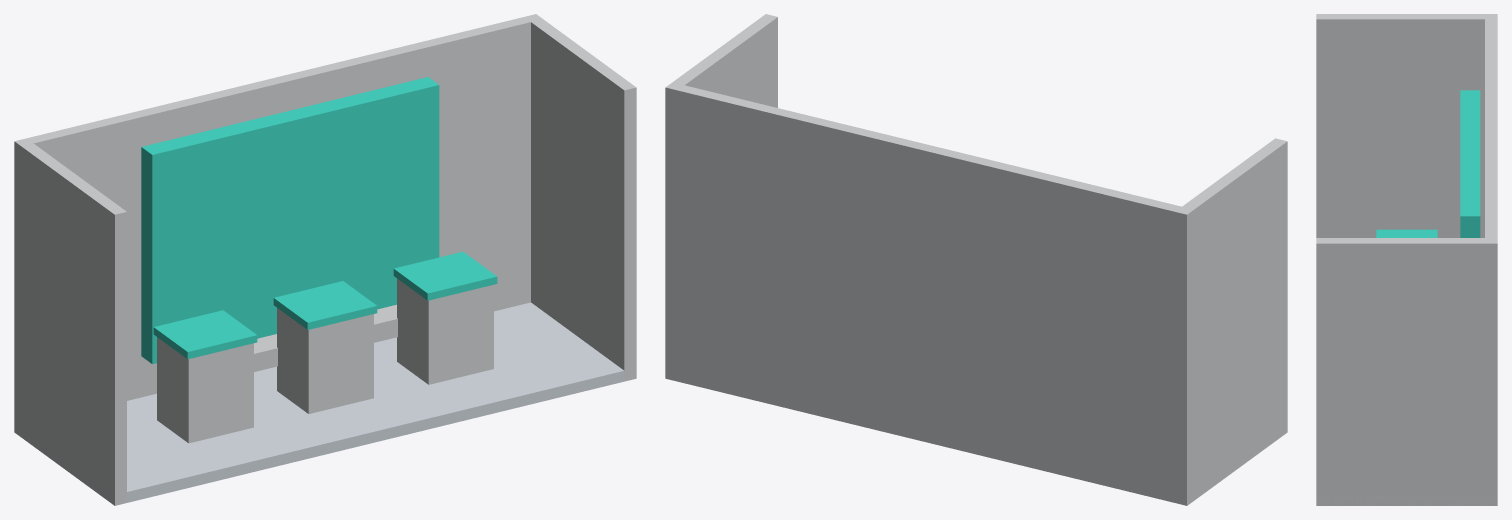
3 renders of one model, left to right at view 1: azimuth 30°, elevation 25°; view 2: azimuth 150°, elevation 25°; view 3: azimuth 270°, elevation 25°, orthographic. The views are drawn at different scales.
Visible parts, largest first — view 1: Exhibition Booth Concept; view 2: Exhibition Booth Concept; view 3: Exhibition Booth Concept.
Boxes of the visible parts, box(x1,y1,x2,y2) form: Exhibition Booth Concept: box(14, 14, 636, 505); Exhibition Booth Concept: box(665, 14, 1287, 505); Exhibition Booth Concept: box(1316, 14, 1497, 505).
Bounding box in the file's own units: 6 × 3.2 × 2.
